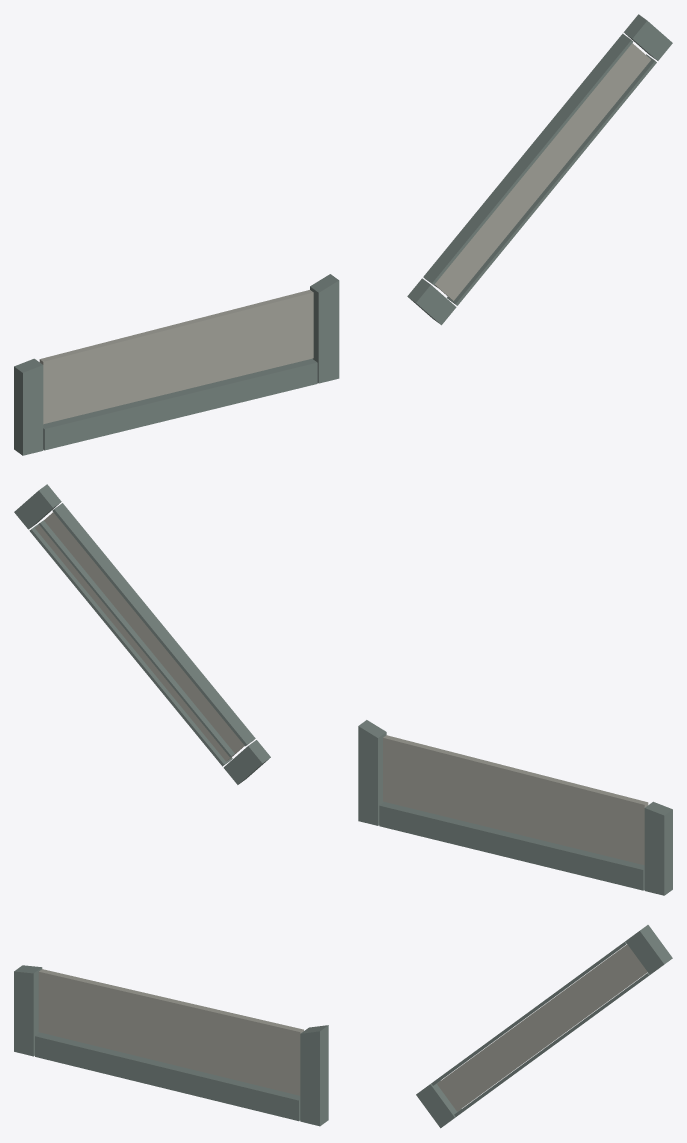
The model's file is SM_PuertaVia_v1_ChapaOndulada_e2_MuyDanado_LOD1.fbx.
The picture shows the model from 3 angles, top to bottom: view 1: azimuth 30°, elevation 25°; view 2: azimuth 150°, elevation 25°; view 3: azimuth 330°, elevation 25°; orthographic projection. The views are drawn at different scales.
Visible parts, largest first — view 1: Hoja_O, Hoja_E; view 2: Hoja_O, Hoja_E; view 3: Hoja_O, Hoja_E.
Part boxes in pixels (x1,y1,x2,y2): Hoja_O: (14, 274, 339, 455); Hoja_E: (407, 14, 672, 325); Hoja_O: (358, 720, 672, 895); Hoja_E: (14, 484, 270, 784); Hoja_O: (14, 965, 328, 1126); Hoja_E: (416, 925, 672, 1128).
Size of what is drawn, in the model's own units: 5.18 by 2.04 by 0.315.
